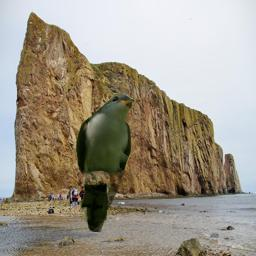Cuckoo: (75, 93, 135, 232)
